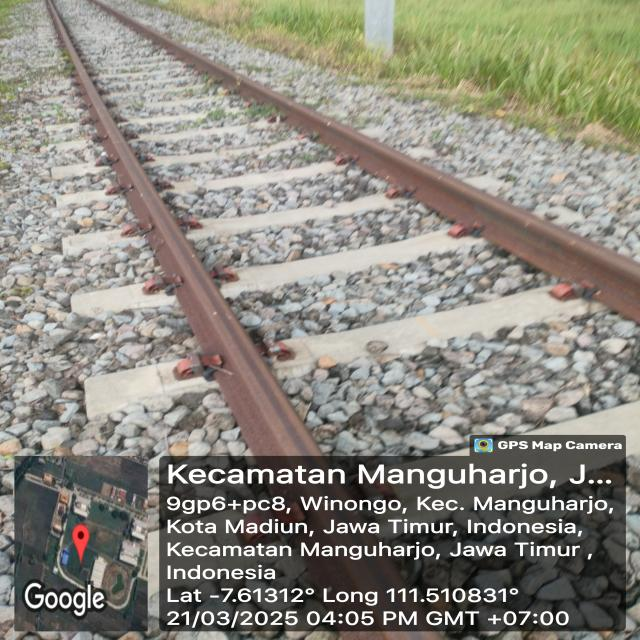rail-detection: (89, 0, 640, 323), (46, 0, 320, 455)
